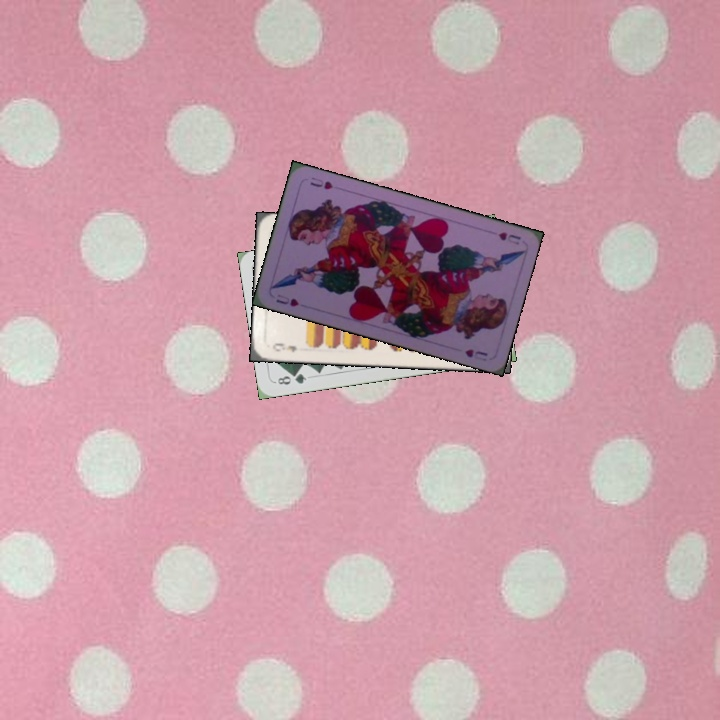E9: (269, 339, 299, 355)
G8: (271, 369, 309, 387)
HU: (272, 290, 302, 309), (494, 228, 523, 247)
